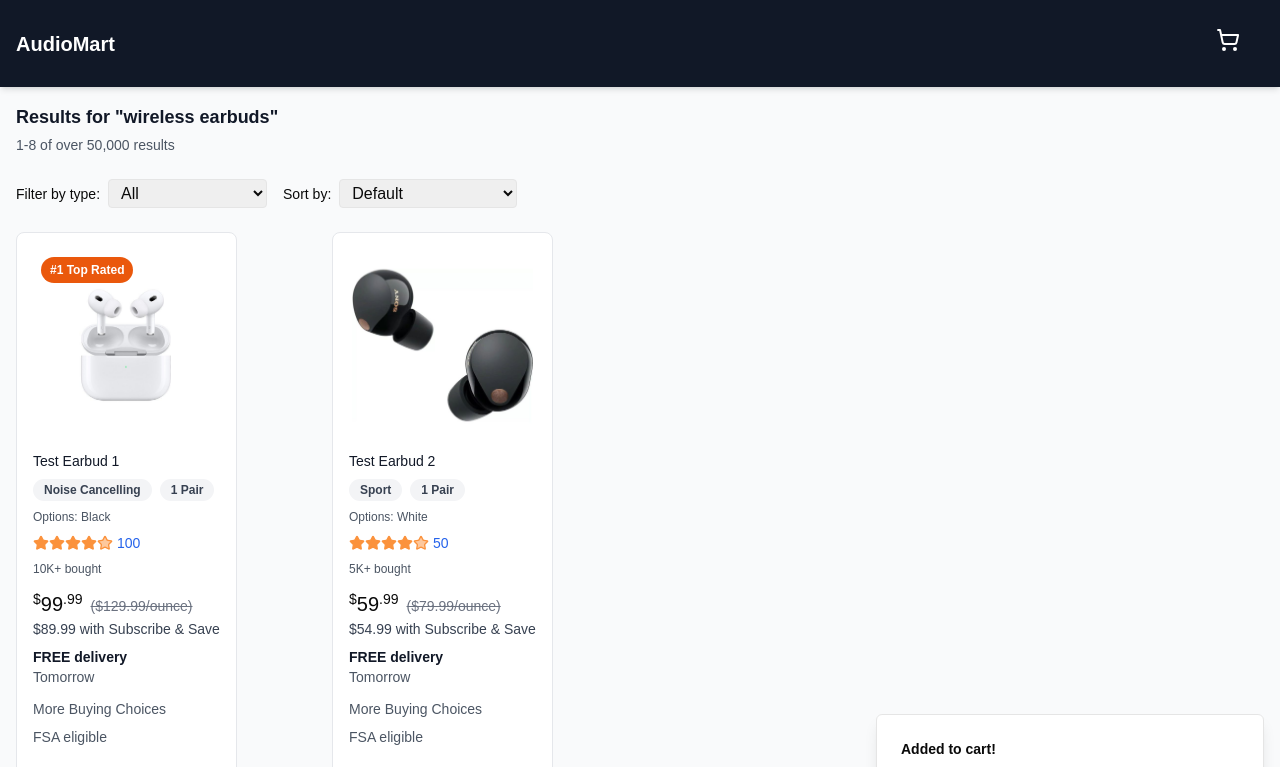
Test: ProductGrid › filters products by type
Note: Select "Sport" from filter
Select "Sport" in the dropdown labelled "Filter by type:". click: (188, 194)
box: left=108, top=179, right=267, bottom=208
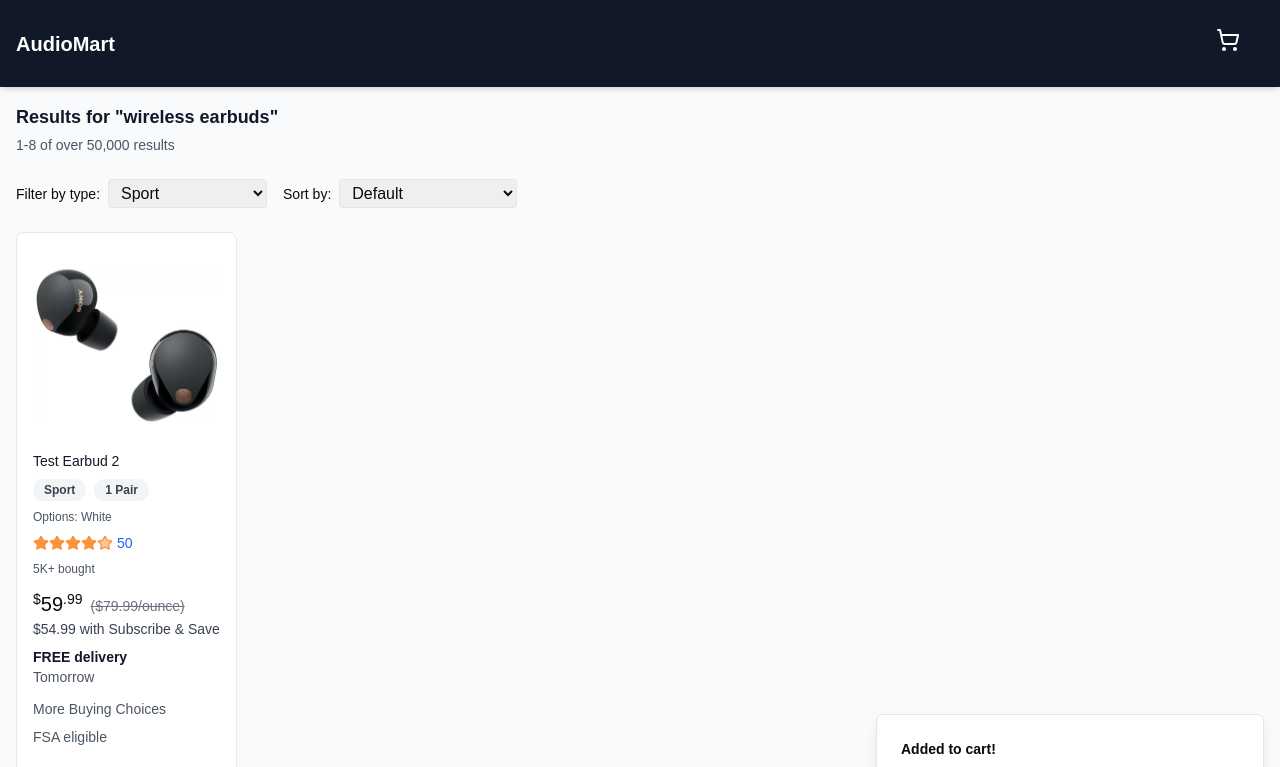
expect the heading "Test Earbud 2" is shown: met, box left=33, top=453, right=119, bottom=469
expect the button "Test Earbud 1" is gone: met
